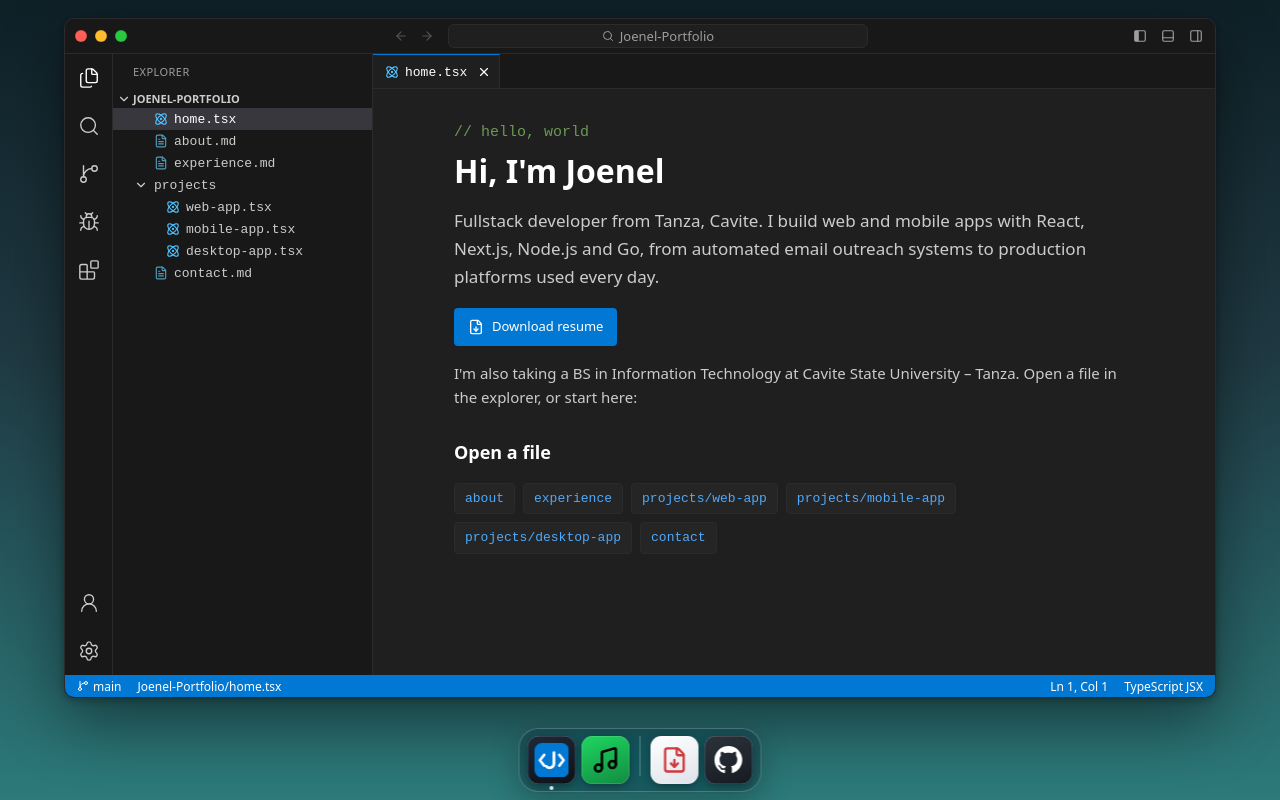
EditorWindow (desktop) › maximize toggles to restore
What coordinates should you click on to do the following:
click the button named "Maximize"
I would click on:
 (121, 36)
Its box is [115, 30, 127, 42].
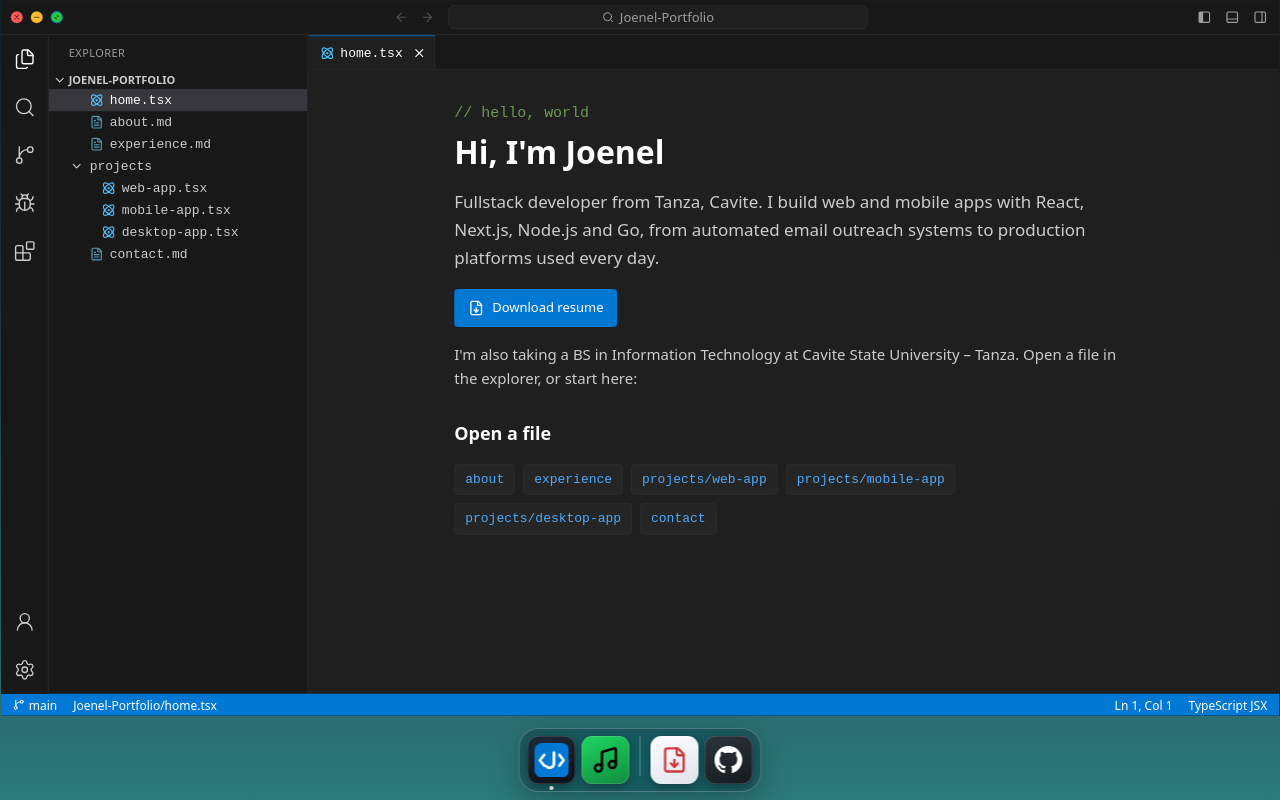
Check: the button named "Restore" is shown
What coordinates should you click on to do the following:
click the button named "Restore"
I would click on:
 (56, 17)
Its box is [50, 11, 62, 23].
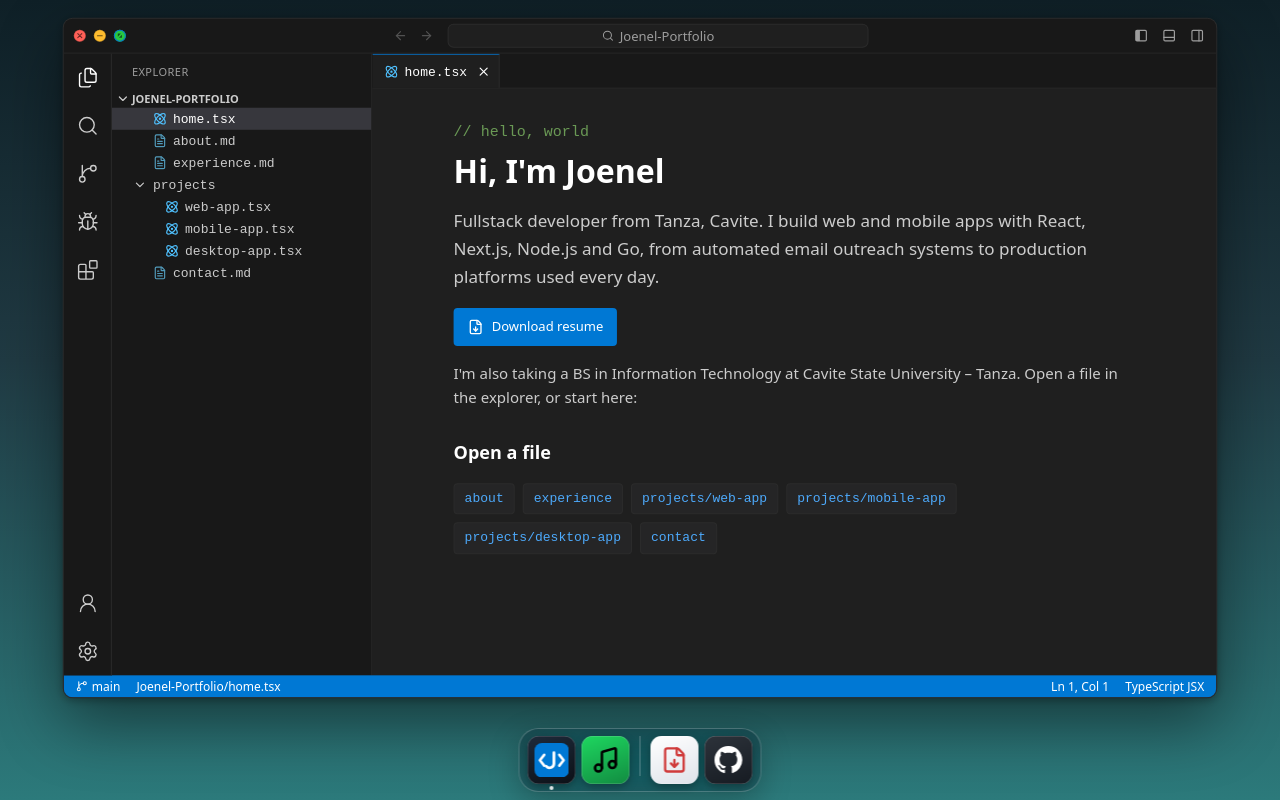
Check: the button named "Maximize" is shown, box [115, 30, 127, 42]
